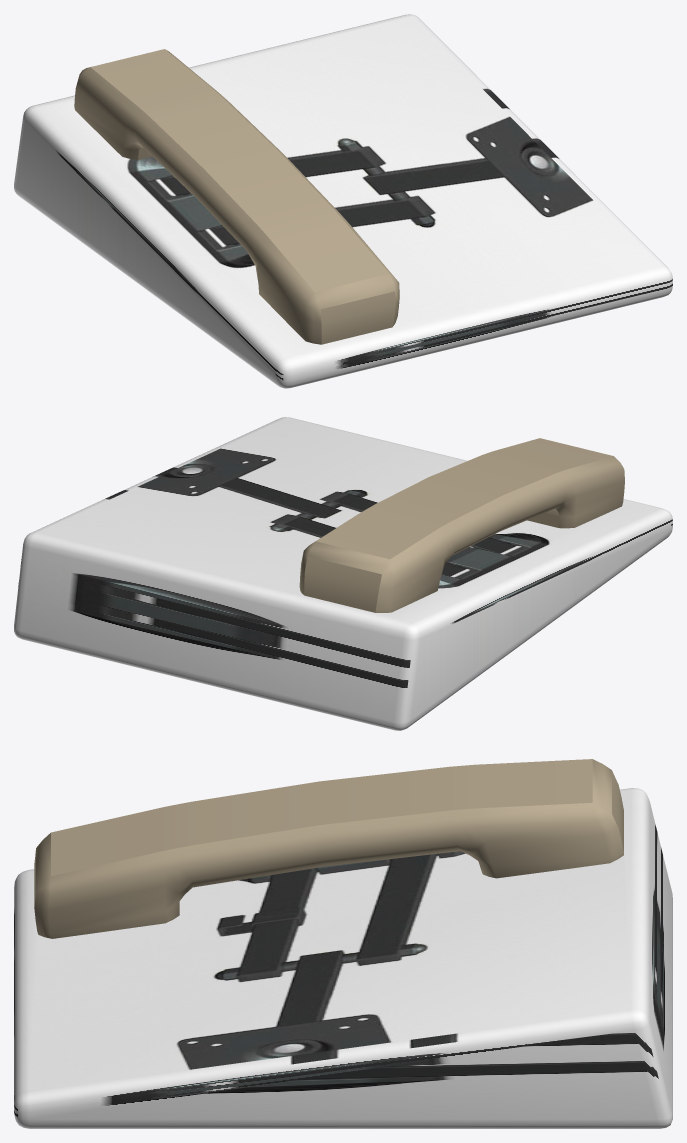
The model's file is tele.fbx.
3 renders of one model, top to bottom at view 1: azimuth 30°, elevation 25°; view 2: azimuth 150°, elevation 25°; view 3: azimuth 270°, elevation 25°, orthographic. The views are drawn at different scales.
Parts seen in each view (by area): view 1: Box001, Box002; view 2: Box001, Box002; view 3: Box001, Box002.
Boxes of the visible parts, <box> form: Box001: <box>14,14,672,388</box>; Box002: <box>74,49,399,344</box>; Box001: <box>14,417,672,730</box>; Box002: <box>299,438,624,612</box>; Box001: <box>14,788,672,1128</box>; Box002: <box>34,759,623,938</box>.
Bounding box in the file's own units: 15 × 5.1 × 17.93.
2 materials, 1 textured.
